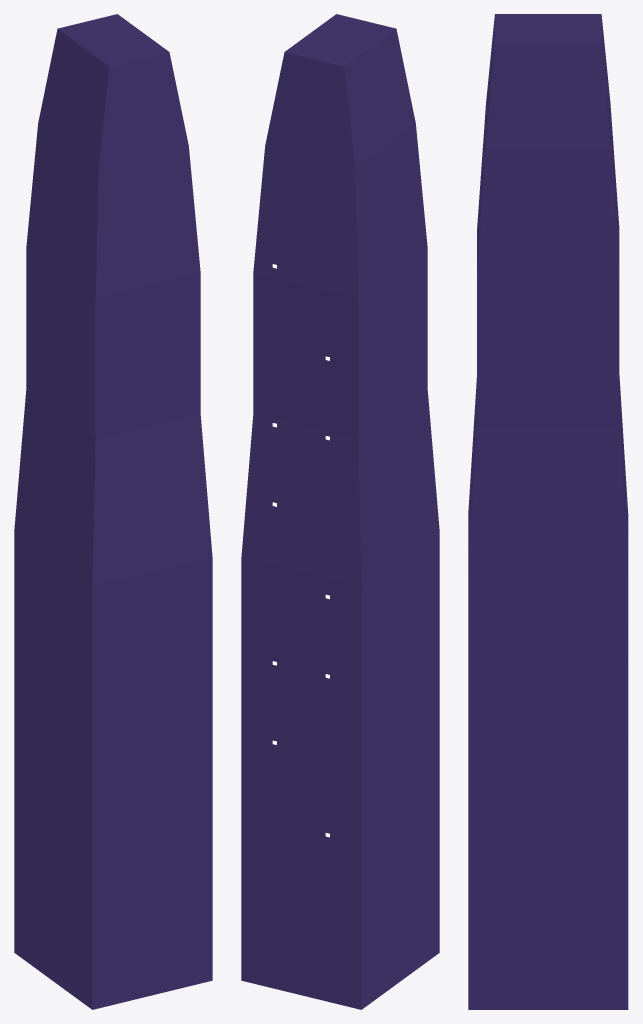
File: 04_night_monolith_118m.glb
The picture shows the model from 3 angles, left to right: view 1: azimuth 30°, elevation 25°; view 2: azimuth 150°, elevation 25°; view 3: azimuth 270°, elevation 25°; orthographic projection. The views are drawn at different scales.
Visible parts, largest first — view 1: body; view 2: body; view 3: body.
Boxes of the visible parts, x1,y1,x2,y2 form: body: (14, 14, 212, 1009); body: (241, 14, 439, 1009); body: (468, 14, 628, 1009).
Size of the model in its own units: 16 by 118 by 18.06.
